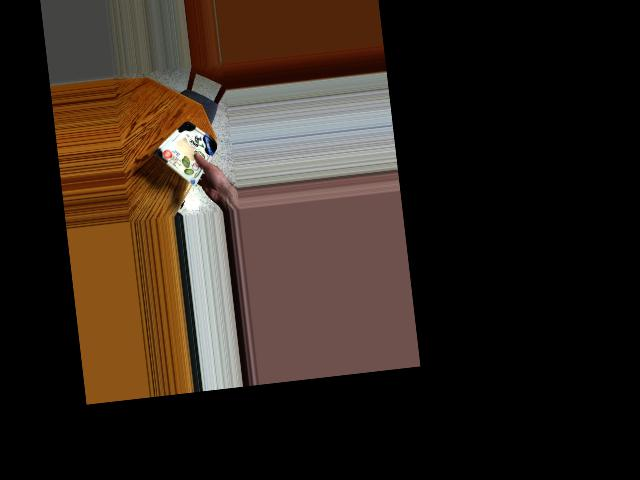cheese: (159, 124, 220, 177)
